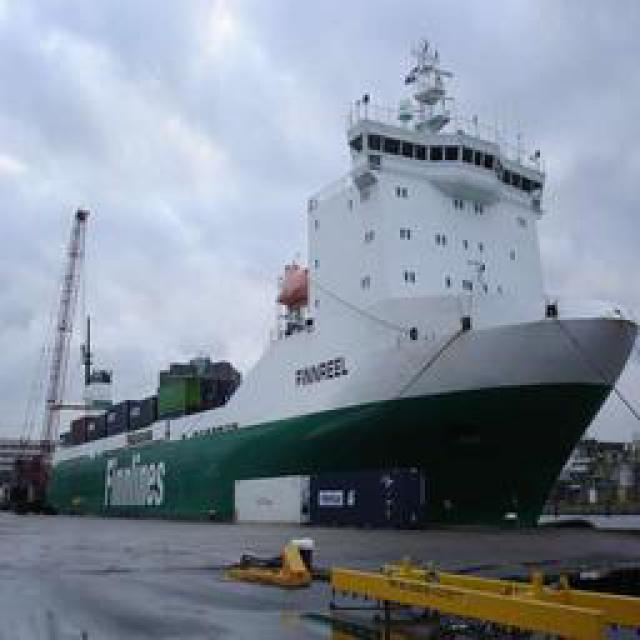Ship: (3, 43, 640, 536)
